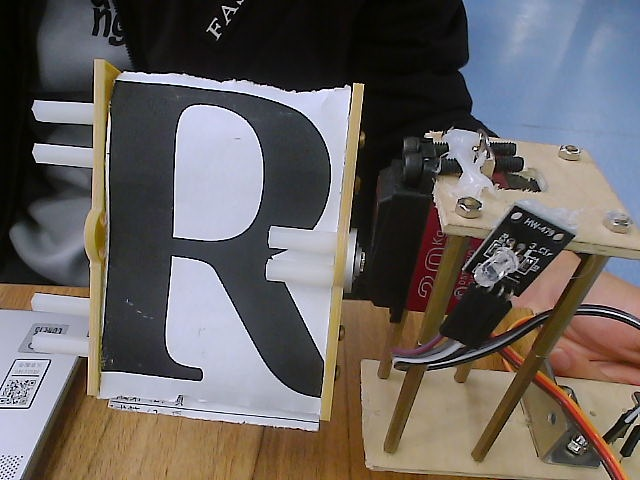R: (32, 56, 393, 449)
